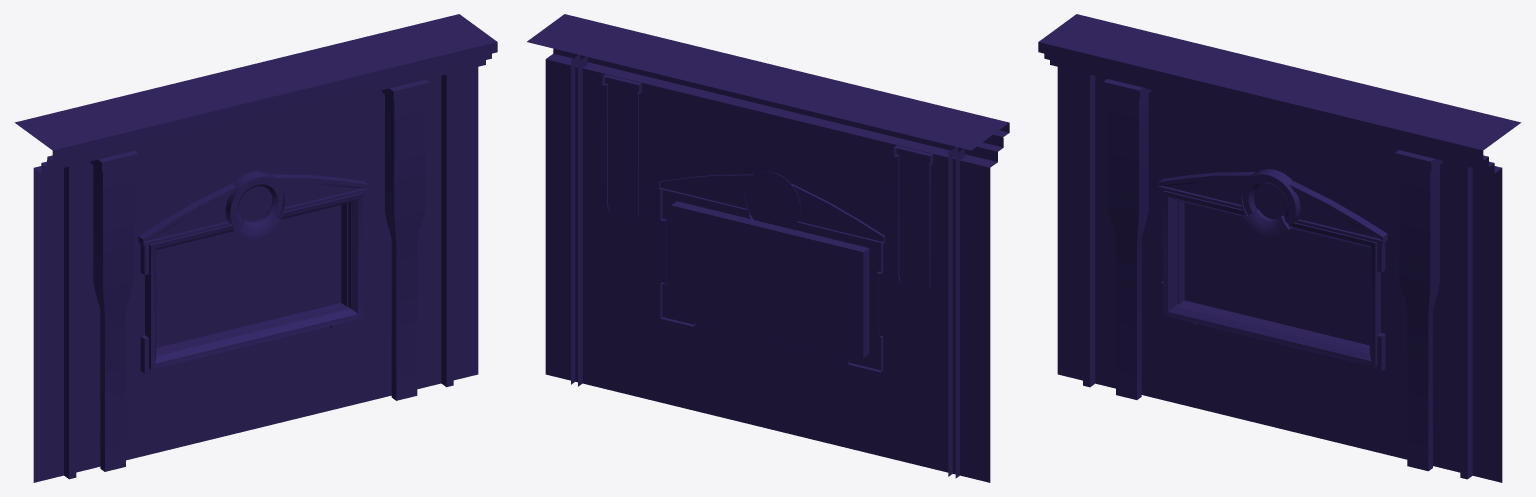
File: SM_boss2Fwindow001.fbx
The picture shows the model from 3 angles, left to right: view 1: azimuth 30°, elevation 25°; view 2: azimuth 150°, elevation 25°; view 3: azimuth 330°, elevation 25°; orthographic projection.
Parts seen in each view (by area): view 1: SM_boss2Fwindow001; view 2: SM_boss2Fwindow001; view 3: SM_boss2Fwindow001.
Boxes of the visible parts, bbox=[...] form: SM_boss2Fwindow001: bbox=[14, 14, 497, 482]; SM_boss2Fwindow001: bbox=[527, 14, 1009, 482]; SM_boss2Fwindow001: bbox=[1038, 14, 1521, 482].
Size of the model in its own units: 672 by 500 by 100.
